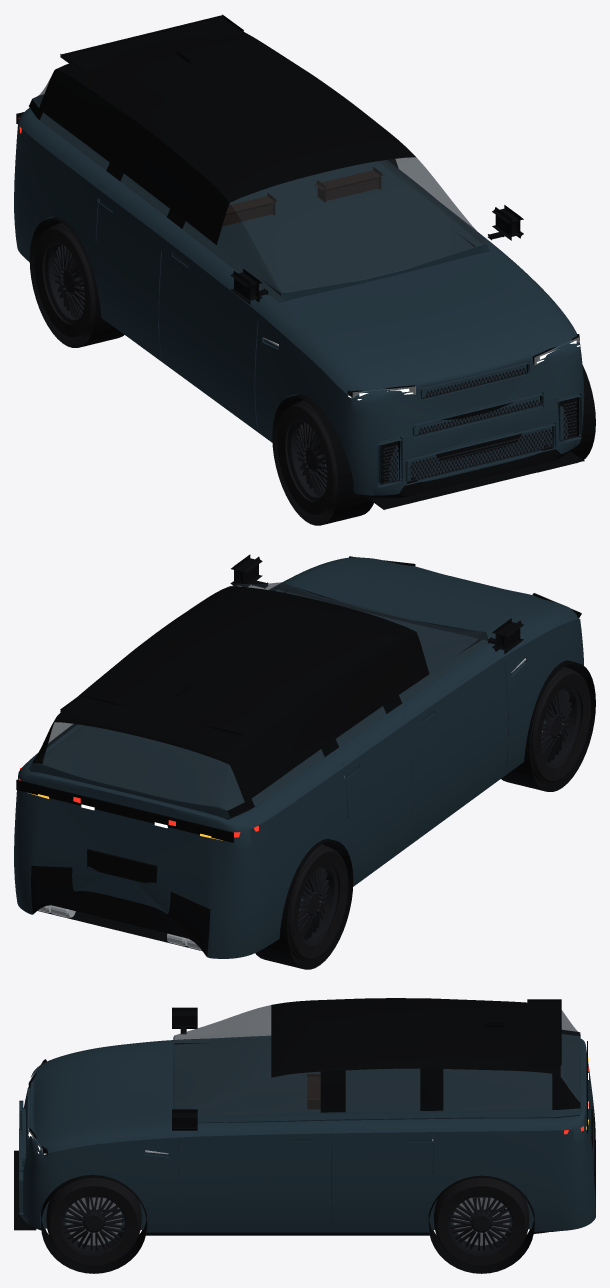
Rendered from strada.glb.
The picture shows the model from 3 angles, top to bottom: view 1: azimuth 30°, elevation 25°; view 2: azimuth 150°, elevation 25°; view 3: azimuth 270°, elevation 25°; orthographic projection. The views are drawn at different scales.
Visible parts, largest first — view 1: body, greenhouse, details, wheel_FR, wheel_RR, liner.001, liner.003, liner; view 2: body, greenhouse, details, wheel_RR, wheel_FR, liner.003, liner.001; view 3: body, greenhouse, wheel_FL, wheel_RL, details, liner, liner.002.
Part boxes in pixels (x1,y1,x2,y2): body: [14, 104, 584, 498]; greenhouse: [29, 32, 489, 302]; details: [16, 14, 584, 509]; wheel_FR: [277, 400, 338, 516]; wheel_RR: [34, 222, 95, 339]; liner.001: [272, 394, 373, 525]; liner.003: [29, 217, 124, 347]; liner: [537, 365, 595, 472]; body: [14, 557, 583, 958]; greenhouse: [29, 582, 488, 819]; details: [16, 554, 581, 950]; wheel_RR: [287, 844, 348, 960]; wheel_FR: [529, 666, 590, 783]; liner.003: [255, 838, 353, 969]; liner.001: [501, 660, 595, 791]; body: [20, 1036, 595, 1235]; greenhouse: [173, 998, 580, 1123]; wheel_FL: [46, 1178, 141, 1266]; wheel_RL: [434, 1178, 529, 1266]; details: [14, 999, 592, 1230]; liner: [41, 1175, 146, 1273]; liner.002: [428, 1175, 534, 1273].
Bounding box in the file's own units: 2.2 × 1.9 × 5.
